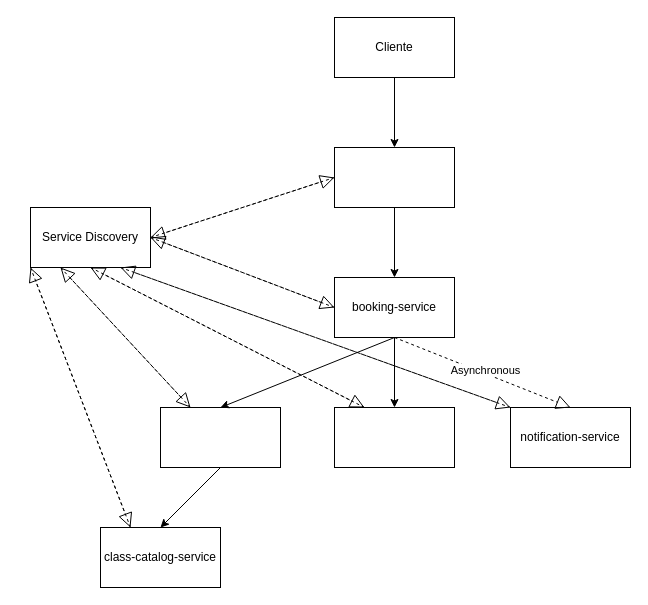
Image size: 648x605. Some labels were removed from this diagram. Each missing label, with the box of its shape:
API Gateway: (334, 146, 454, 208)
member-service: (334, 406, 454, 468)
timetable-service: (160, 406, 280, 468)
